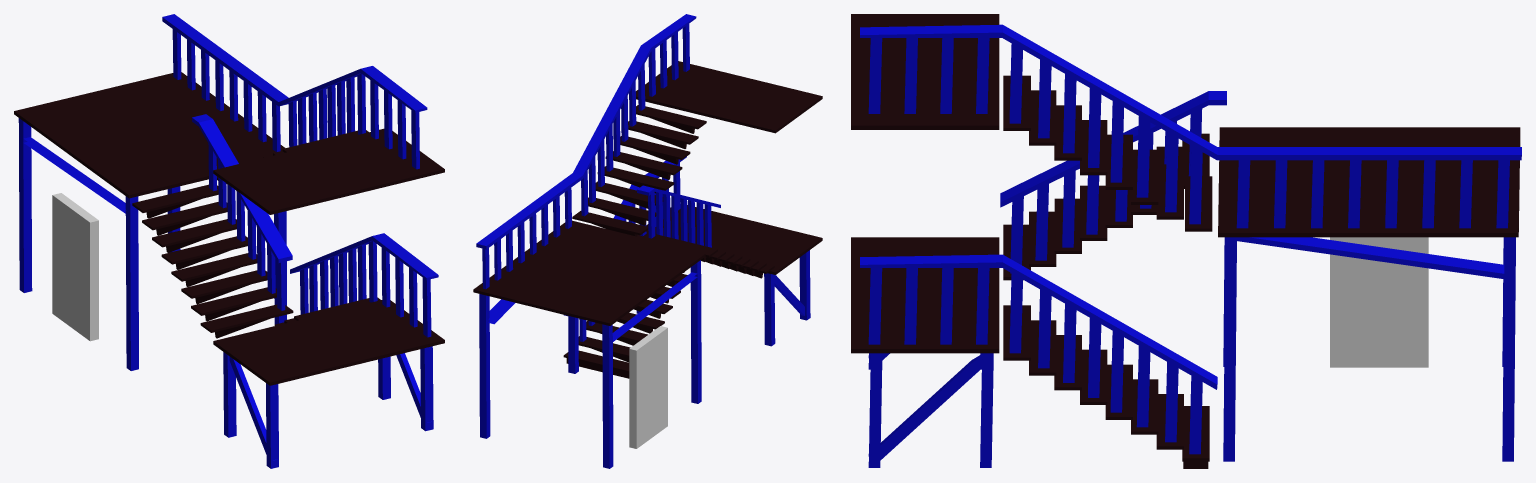
The model's file is Construct.fbx.
3 renders of one model, left to right at view 1: azimuth 30°, elevation 25°; view 2: azimuth 150°, elevation 25°; view 3: azimuth 270°, elevation 25°, orthographic. The views are drawn at different scales.
Visible parts, largest first — view 1: Construct, door; view 2: Construct, door; view 3: Construct, door.
Boxes of the visible parts, <box> form: Construct: <box>14,14,444,468</box>; door: <box>52,193,98,341</box>; Construct: <box>473,14,822,468</box>; door: <box>629,326,667,448</box>; Construct: <box>851,14,1521,468</box>; door: <box>1330,237,1428,367</box>.
Size of the model in its own units: 8.51 by 15.24 by 21.55.
